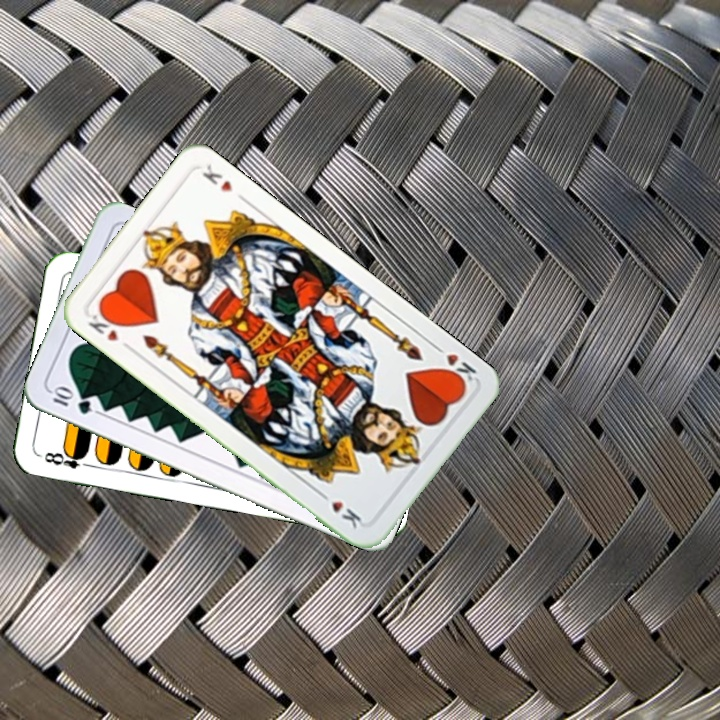E8: (40, 446, 95, 472)
G10: (47, 383, 95, 417)
HK: (429, 340, 480, 390), (84, 305, 135, 353)
